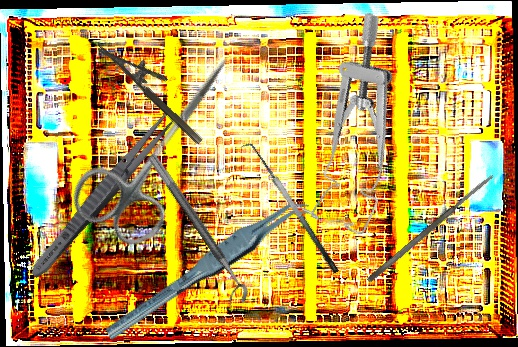Dressing Forceps: (25, 102, 182, 284)
Fixation Ring: (135, 151, 254, 312)
Iris Scissors: (62, 30, 263, 258)
Needle Holder: (97, 29, 216, 146)
Spatula Surgical: (365, 172, 497, 284), (239, 137, 340, 281)
Speculum: (277, 9, 449, 241)
Tissue Forceps: (91, 194, 324, 342)
